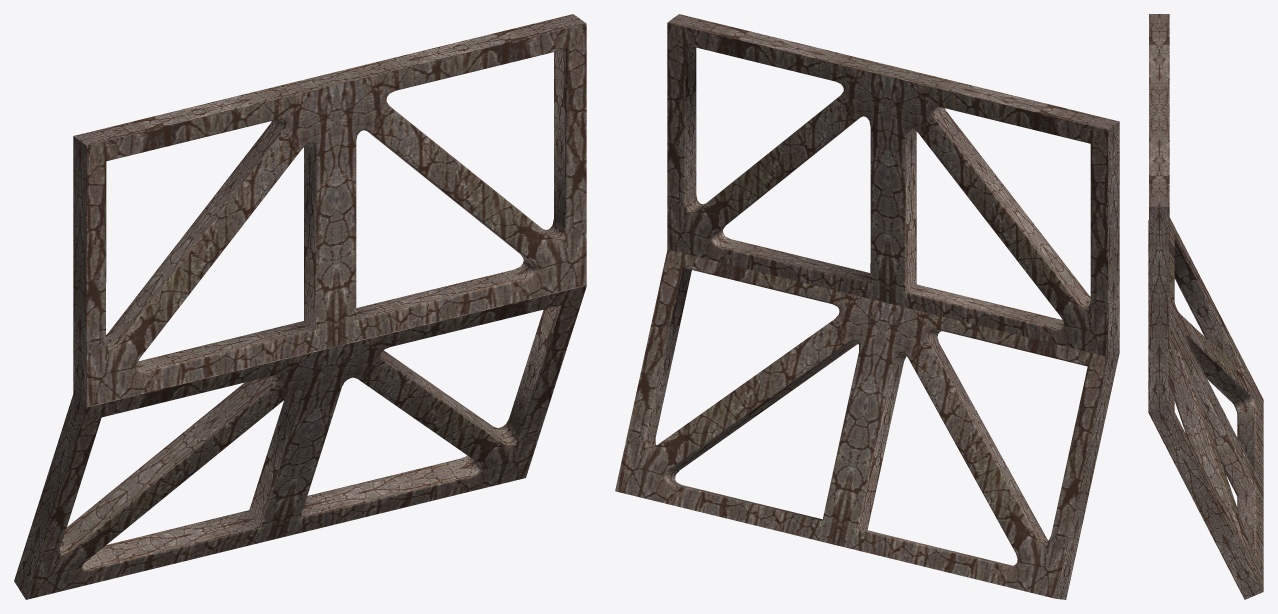
File: wall_pyl_j.FBX
3 renders of one model, left to right at view 1: azimuth 30°, elevation 25°; view 2: azimuth 150°, elevation 25°; view 3: azimuth 270°, elevation 25°, orthographic. The views are drawn at different scales.
Visible parts, largest first — view 1: wall_pyl_j; view 2: wall_pyl_j; view 3: wall_pyl_j.
Boxes of the visible parts, <box> form: wall_pyl_j: <box>14,14,586,599</box>; wall_pyl_j: <box>615,14,1119,599</box>; wall_pyl_j: <box>1148,14,1263,599</box>.
Size of the model in its own units: 8 by 2.02 by 7.62.
